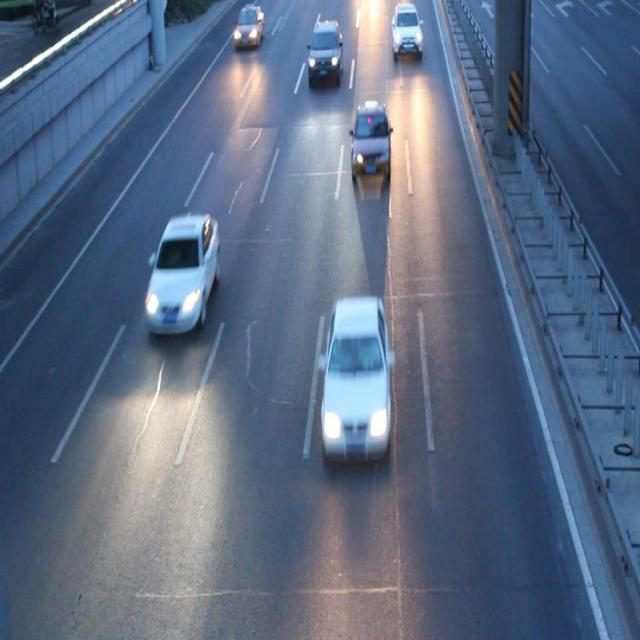car: (319, 294, 394, 460), (146, 214, 219, 334), (351, 102, 392, 179), (307, 21, 342, 83), (391, 1, 422, 58), (234, 1, 263, 46)
